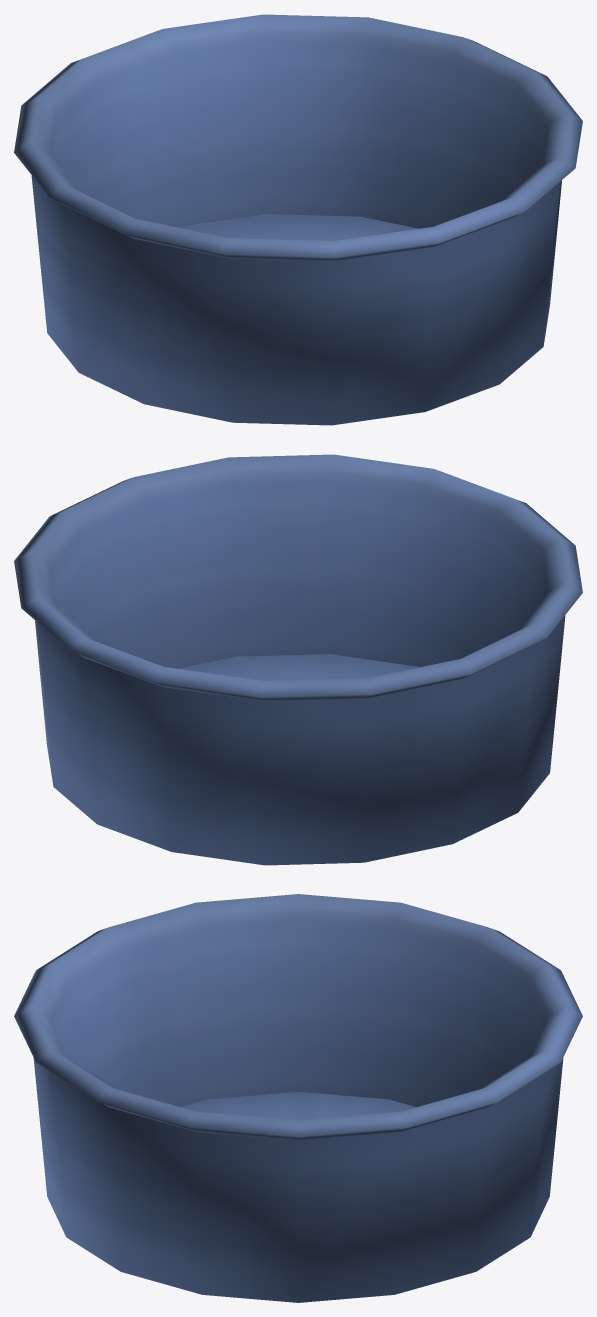
The model's file is KR_Plastic_tub_01_01.fbx.
3 renders of one model, top to bottom at view 1: azimuth 30°, elevation 25°; view 2: azimuth 150°, elevation 25°; view 3: azimuth 270°, elevation 25°, orthographic.
Visible parts, largest first — view 1: kr_plastic_tub_01_01; view 2: kr_plastic_tub_01_01; view 3: kr_plastic_tub_01_01.
Part boxes in pixels (x1,y1,x2,y2): kr_plastic_tub_01_01: (14,14,582,425); kr_plastic_tub_01_01: (14,454,582,865); kr_plastic_tub_01_01: (14,894,582,1302).
Size of the model in its own units: 34 by 13 by 34.
